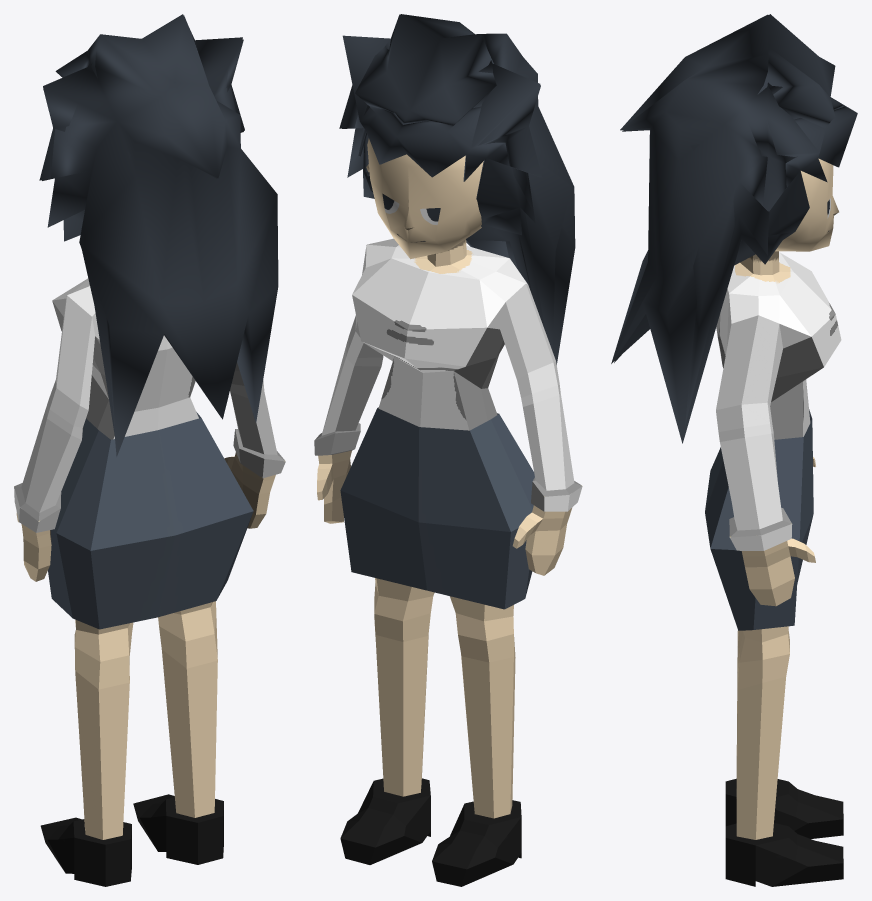
Rendered from F SPIKEY  LONG.glb.
3 views of the same model, side by side, from view 1: azimuth 30°, elevation 25°; view 2: azimuth 150°, elevation 25°; view 3: azimuth 270°, elevation 25° (orthographic).
Visible parts, largest first — view 1: WOMEN OFFICE, SPIKEYLONG; view 2: WOMEN OFFICE, SPIKEYLONG, WOMEN HEAD; view 3: WOMEN OFFICE, SPIKEYLONG, WOMEN HEAD.
Part boxes in pixels (x1,y1,x2,y2): WOMEN OFFICE: (14, 278, 285, 886); SPIKEYLONG: (39, 14, 278, 456); WOMEN OFFICE: (314, 238, 582, 886); SPIKEYLONG: (339, 14, 575, 364); WOMEN HEAD: (367, 138, 483, 259); WOMEN OFFICE: (705, 251, 843, 886); SPIKEYLONG: (611, 14, 857, 443); WOMEN HEAD: (775, 158, 838, 251).
Bounding box in the file's own units: 3.07 × 9.66 × 2.64.
4 materials, 4 textured.
